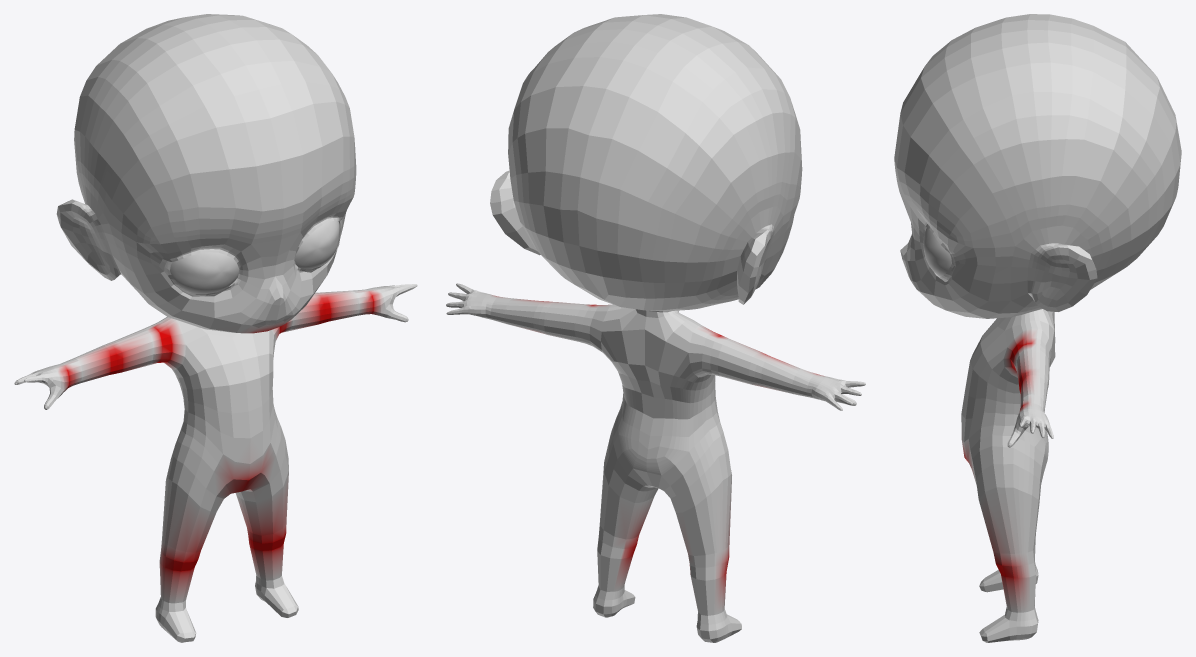
The model's file is playerv5_noRig.fbx.
3 renders of one model, left to right at view 1: azimuth 30°, elevation 25°; view 2: azimuth 150°, elevation 25°; view 3: azimuth 270°, elevation 25°, orthographic. The views are drawn at different scales.
Visible parts, largest first — view 1: retopology, eyes; view 2: retopology; view 3: retopology, eyes.
Boxes of the visible parts, box(x1,y1,x2,y2) form: retopology: box(14, 14, 417, 642); eyes: box(170, 220, 339, 293); retopology: box(446, 14, 865, 642); retopology: box(894, 14, 1181, 642); eyes: box(923, 227, 951, 277).
Bounding box in the file's own units: 466 × 654 × 291.
